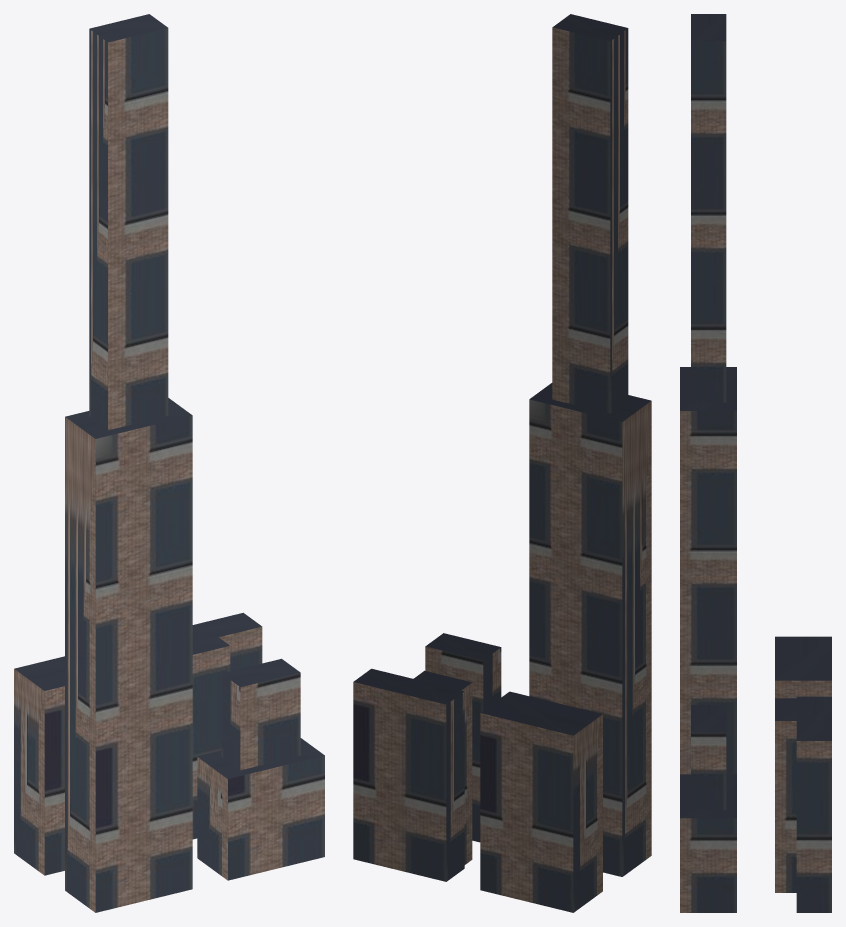
The model's file is city_block_12345_6_08.glb.
The picture shows the model from 3 angles, left to right: view 1: azimuth 30°, elevation 25°; view 2: azimuth 150°, elevation 25°; view 3: azimuth 270°, elevation 25°; orthographic projection. The views are drawn at different scales.
Visible parts, largest first — view 1: block_08; view 2: block_08; view 3: block_08.
Boxes of the visible parts, <box> form: block_08: <box>14,14,324,912</box>; block_08: <box>353,14,651,912</box>; block_08: <box>680,14,831,912</box>.
Size of the model in its own units: 3.9 by 14 by 2.4.
4 materials, 4 textured.
